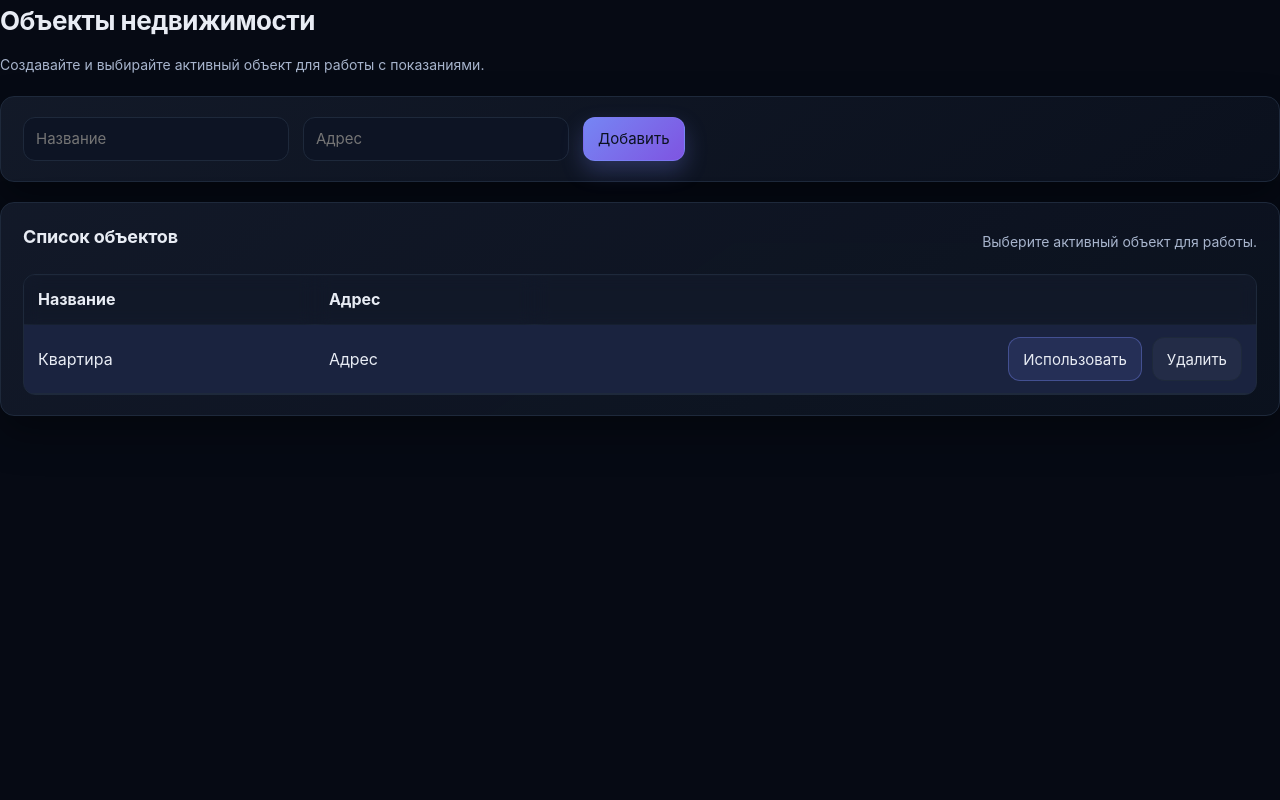
Test: PropertiesPage › requires password confirmation before deletion and surfaces auth errors
The width and height of the screenshot is (1280, 800).
Click the button "Удалить": (1197, 359) [1152, 337, 1242, 381]
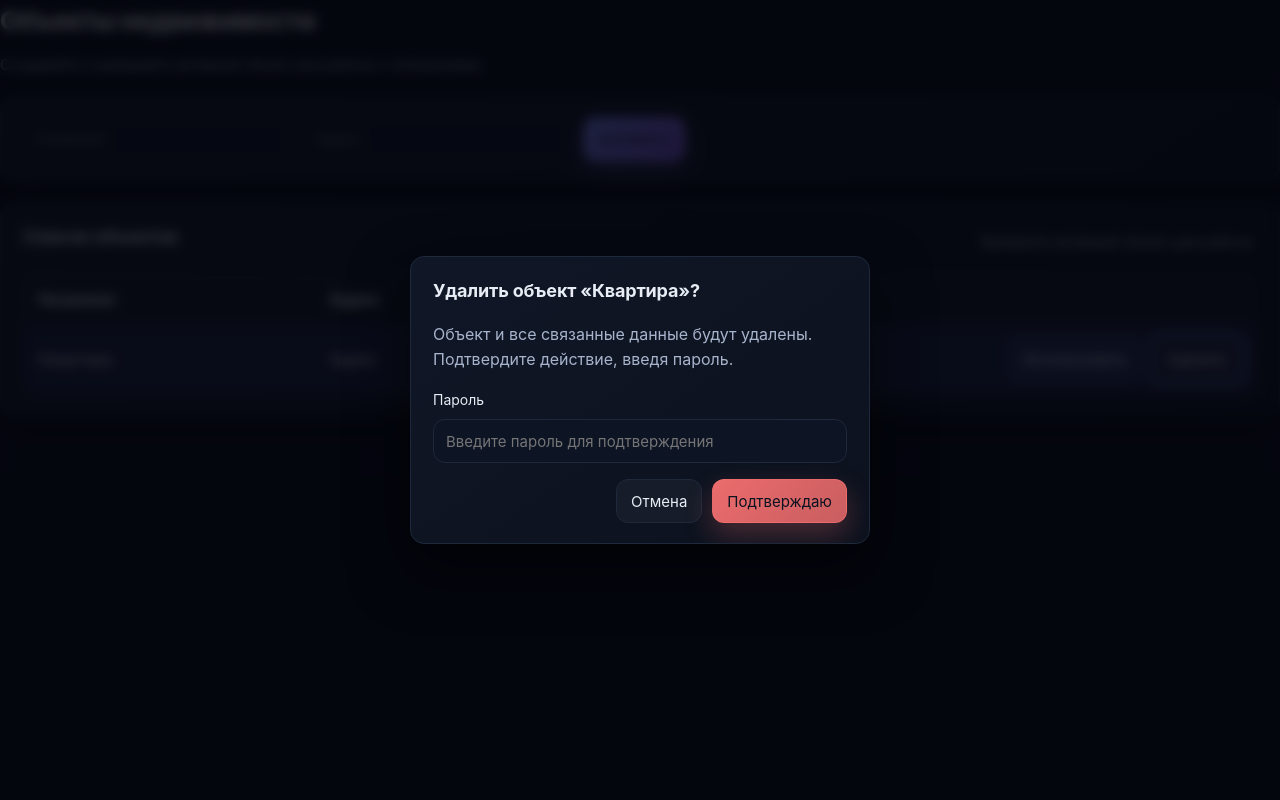
In the password field labelled "Пароль": (640, 441) [433, 419, 847, 463], type "secret"
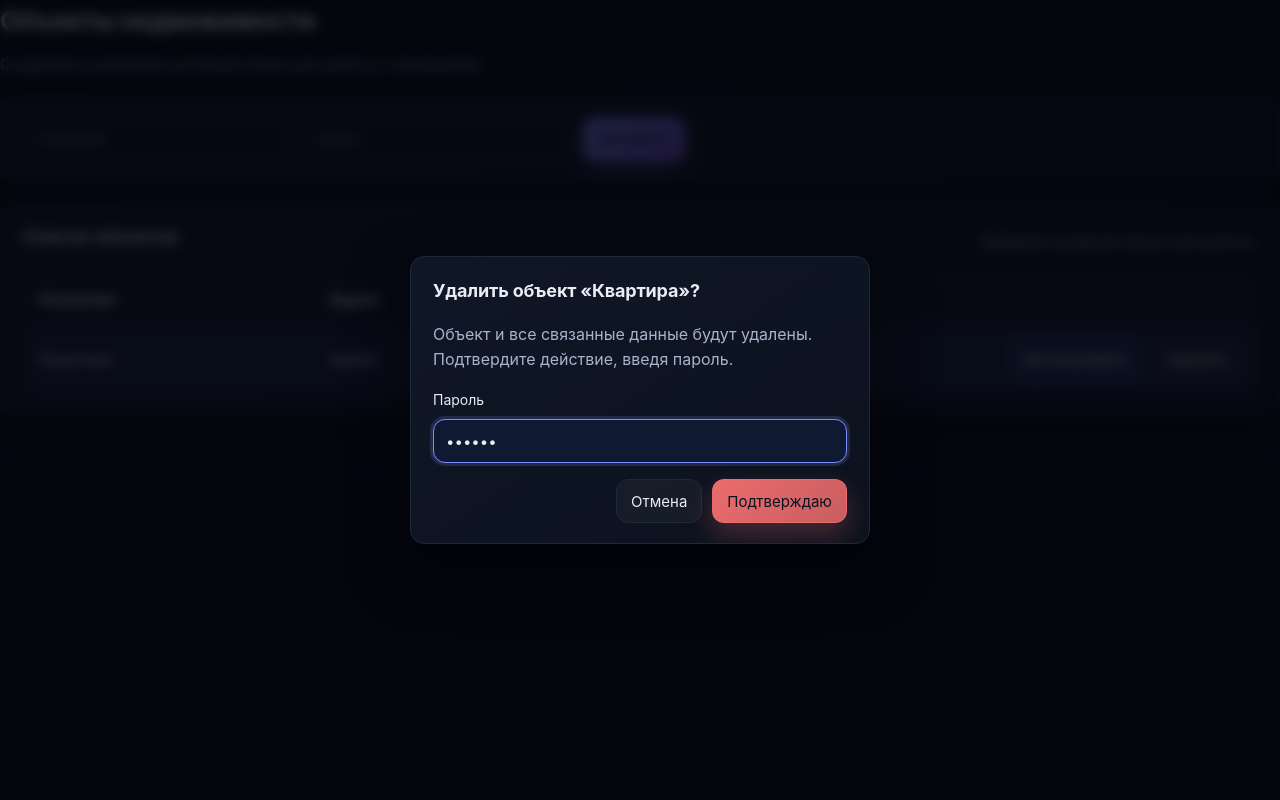
Click the button "Подтверждаю": (780, 501) [712, 479, 847, 523]
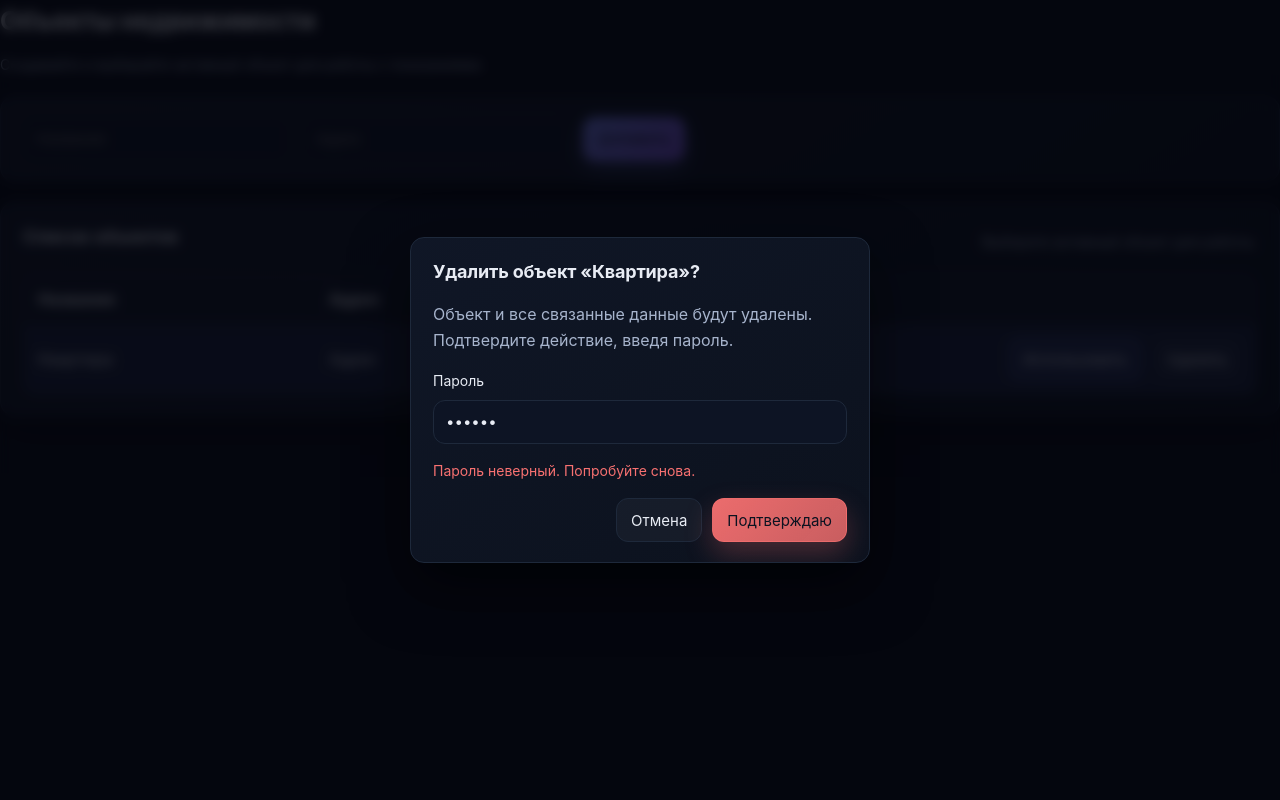
expect the text "Пароль неверный. Попробуйте снова." is shown: met, box [433, 462, 695, 479]
